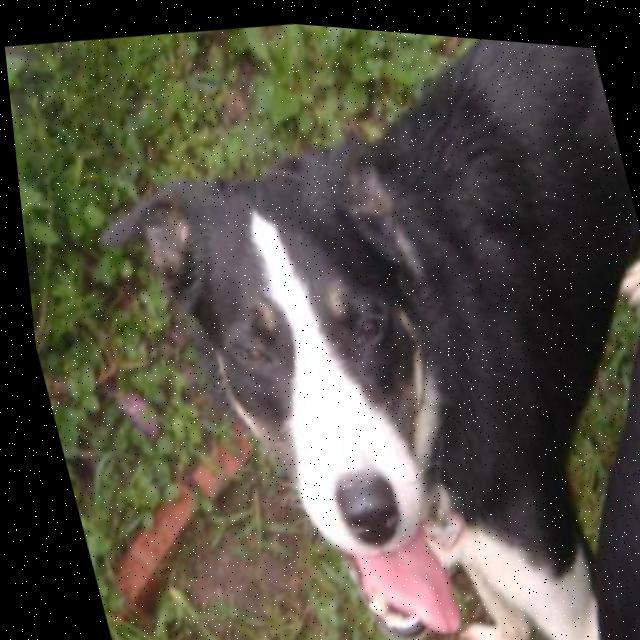dogs: (54, 3, 640, 640)
